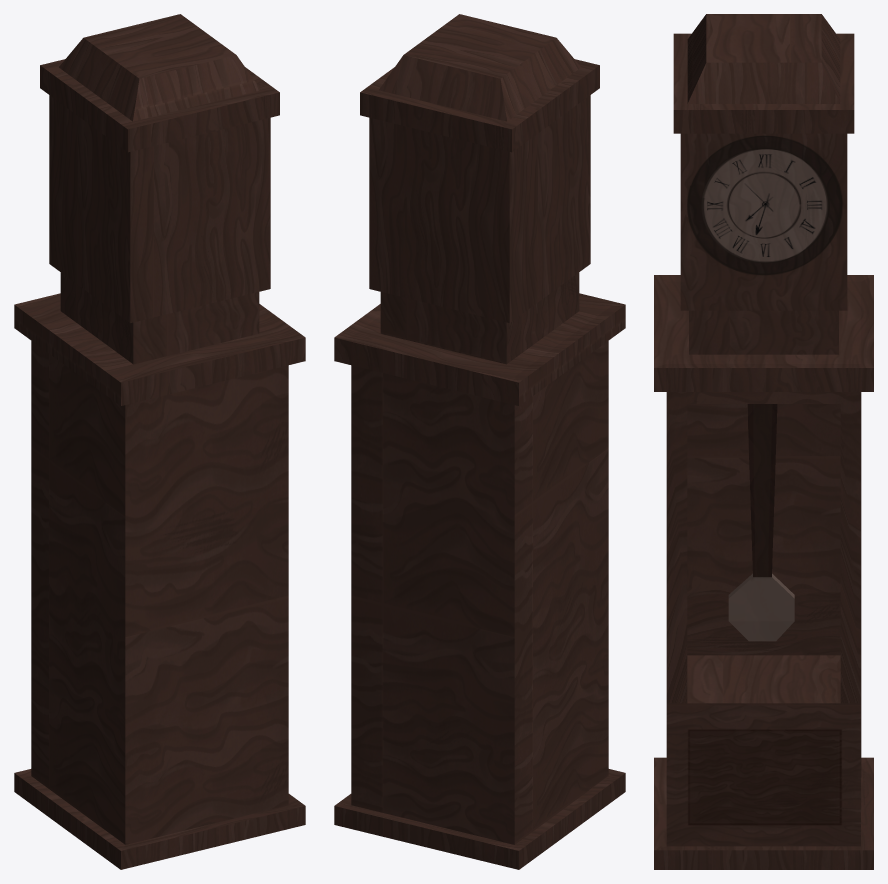
The model's file is saat.fbx.
3 views of the same model, side by side, from view 1: azimuth 30°, elevation 25°; view 2: azimuth 150°, elevation 25°; view 3: azimuth 270°, elevation 25° (orthographic). The views are drawn at different scales.
Visible parts, largest first — view 1: Cube.066; view 2: Cube.066; view 3: Cube.066, Plane.010.
Part boxes in pixels (x1=…): Cube.066: x1=14, y1=14, x2=305, y2=869; Cube.066: x1=334, y1=14, x2=625, y2=869; Cube.066: x1=654, y1=14, x2=873, y2=869; Plane.010: x1=728, y1=404, x2=794, y2=641.
Bounding box in the file's own units: 114 × 449 × 114.
4 materials, 4 textured.
